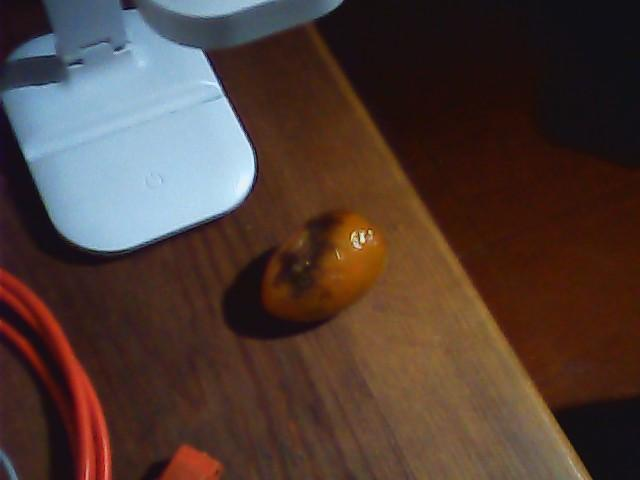defectuoso: (257, 210, 387, 329)
